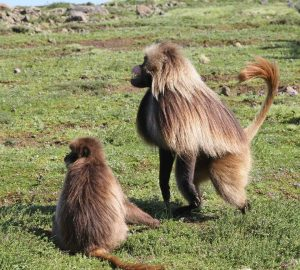Gelada: (129, 43, 264, 213), (58, 135, 125, 252)
